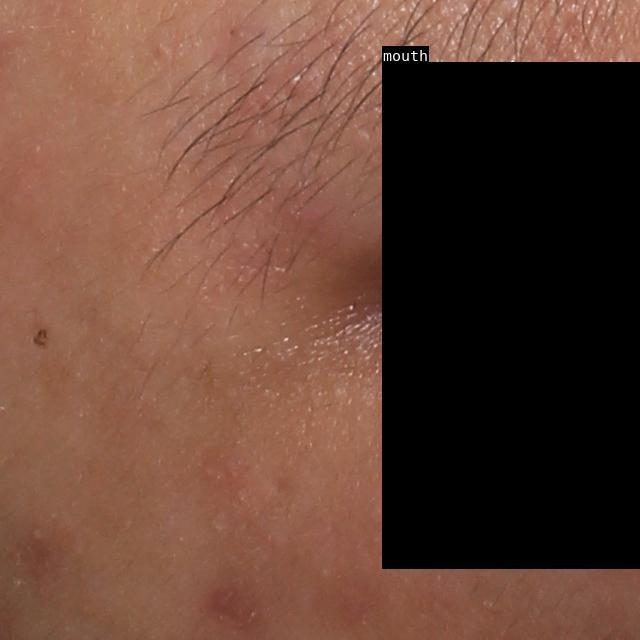comedo: (29, 525, 47, 544)
nevus: (31, 326, 51, 352)
